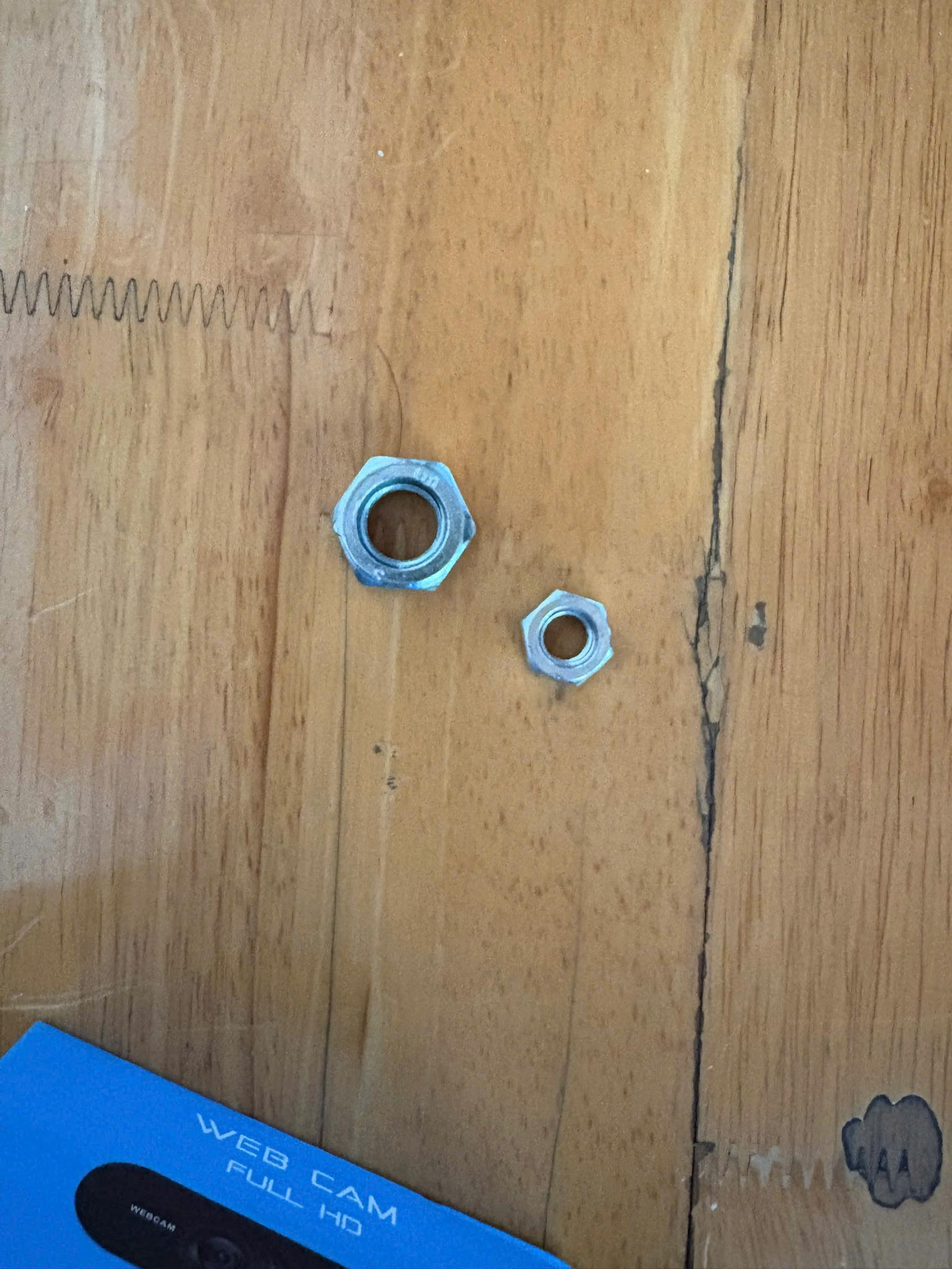nut: (317, 424, 492, 615), (521, 580, 633, 700)
